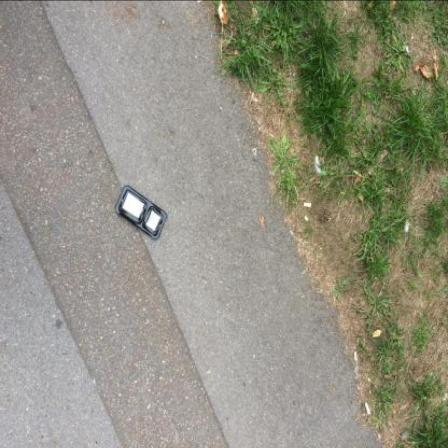Cigarette: (366, 403, 372, 415), (305, 204, 312, 209), (356, 352, 359, 361)
Plastic container: (116, 185, 168, 241)
